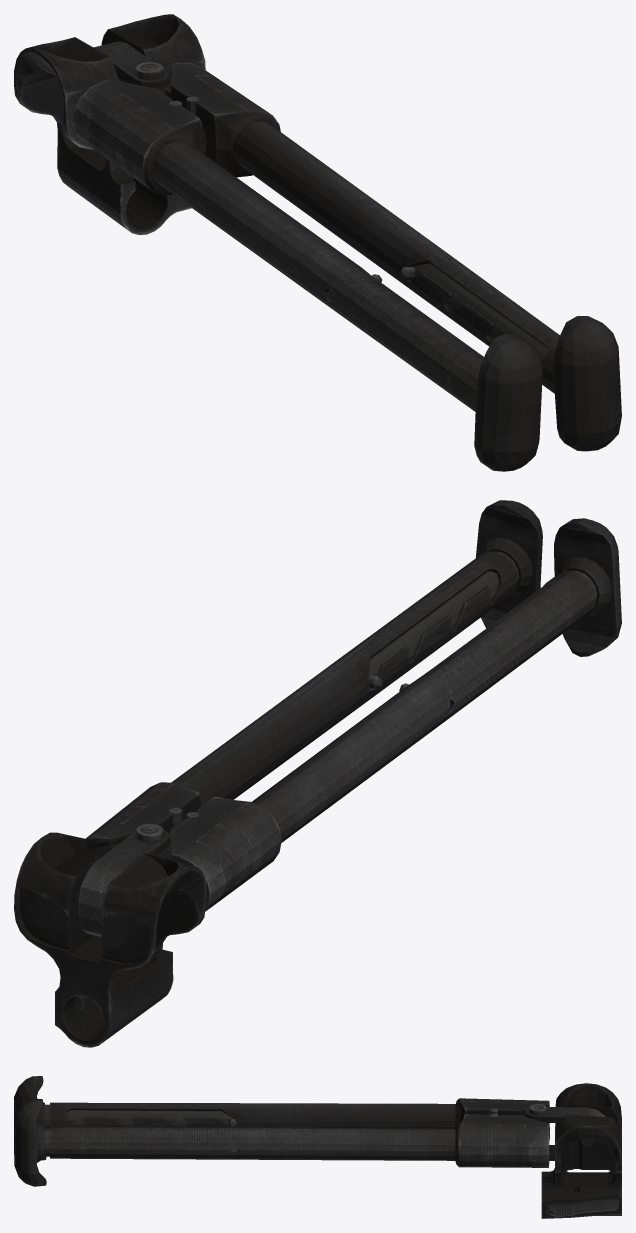
3 renders of one model, top to bottom at view 1: azimuth 30°, elevation 25°; view 2: azimuth 150°, elevation 25°; view 3: azimuth 270°, elevation 25°, orthographic. The views are drawn at different scales.
Visible parts, largest first — view 1: TW_56ea8222d2720b69698b4567_PZ_Import; view 2: TW_56ea8222d2720b69698b4567_PZ_Import; view 3: TW_56ea8222d2720b69698b4567_PZ_Import.
Part boxes in pixels (x1,y1,x2,y2): TW_56ea8222d2720b69698b4567_PZ_Import: (14, 14, 621, 471); TW_56ea8222d2720b69698b4567_PZ_Import: (14, 500, 621, 1047); TW_56ea8222d2720b69698b4567_PZ_Import: (14, 1076, 621, 1218).
Size of the model in its own units: 0.0209 by 0.122 by 0.0277.
Materials: 1 (1 with a texture image).
